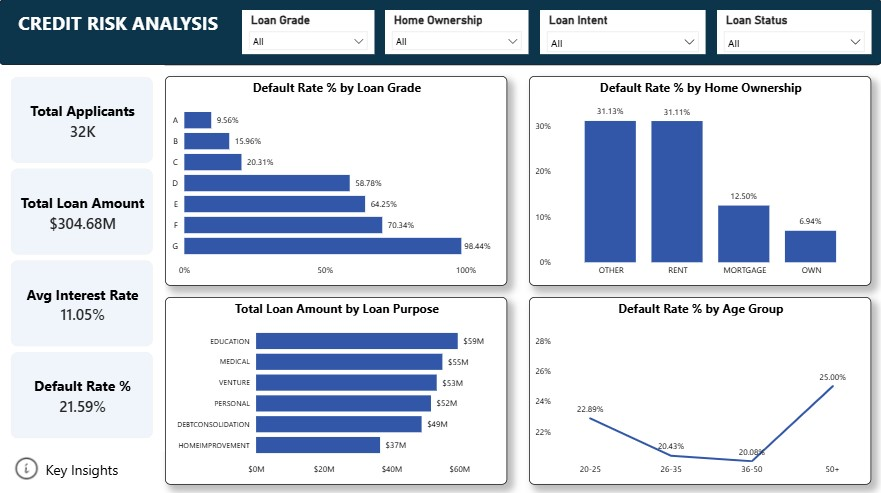

Layout of this report page (visuals, bound fields, positions):
{"tool":"powerbi","page":{"name":"Page 1","canvas":[1280,720],"ordinal":0},"visuals":[{"type":"textbox","box":[0,0,1280,80],"z":0},{"type":"clusteredBarChart","title":"Default Rate % by Loan Grade","fields":{"Y":["credit_risk_analysis.Default Rate %"],"Category":["credit_risk_analysis.loan_grade"]},"box":[208,96,512,288],"z":1000},{"type":"clusteredColumnChart","title":"Default Rate % by Home Ownership","fields":{"Y":["credit_risk_analysis.Default Rate %"],"Category":["credit_risk_analysis.person_home_ownership"]},"box":[736,96,528,288],"z":2000},{"type":"clusteredBarChart","title":"Total Loan Amount by Loan Purpose","fields":{"Category":["credit_risk_analysis.loan_intent"],"Y":["Sum(credit_risk_analysis.loan_amnt)"]},"box":[208,416,512,288],"z":3000},{"type":"lineChart","fields":{"Y":["credit_risk_analysis.Default Rate %"],"Category":["credit_risk_analysis.Age Group"]},"box":[736,416,528,288],"z":4000},{"type":"slicer","title":"Loan Grade","fields":{"Values":["credit_risk_analysis.loan_grade"]},"box":[440,8,200,64],"z":5000},{"type":"slicer","title":"Loan Grade","fields":{"Values":["credit_risk_analysis.person_home_ownership"]},"box":[648,8,200,64],"z":6000},{"type":"slicer","title":"Loan Grade","fields":{"Values":["credit_risk_analysis.loan_intent"]},"box":[856,8,200,64],"z":7000},{"type":"slicer","fields":{"Values":["credit_risk_analysis.Loan Status Label"]},"box":[1064,8,200,64],"z":8000},{"type":"cardVisual","fields":{"Data":["credit_risk_analysis.Total Applicants","Sum(credit_risk_analysis.loan_amnt)","credit_risk_analysis.Avg Interest Rate","credit_risk_analysis.Default Rate %"]},"box":[0,96,208,560],"z":9000},{"type":"actionButton","box":[16,656,176,48],"z":10000}]}

Visuals, with their boxes in screenshot pixels (x1, y1, x2, y2), scaled from the page's 1280x720 canvas onto the 881x493 screenshot:
textbox: {"x1": 0, "y1": 0, "x2": 880, "y2": 55}
"Default Rate % by Loan Grade" clusteredBarChart: {"x1": 143, "y1": 66, "x2": 496, "y2": 263}
"Default Rate % by Home Ownership" clusteredColumnChart: {"x1": 507, "y1": 66, "x2": 870, "y2": 263}
"Total Loan Amount by Loan Purpose" clusteredBarChart: {"x1": 143, "y1": 285, "x2": 496, "y2": 482}
lineChart - credit_risk_analysis.Default Rate % x credit_risk_analysis.Age Group: {"x1": 507, "y1": 285, "x2": 870, "y2": 482}
"Loan Grade" slicer: {"x1": 303, "y1": 5, "x2": 440, "y2": 49}
"Loan Grade" slicer: {"x1": 446, "y1": 5, "x2": 584, "y2": 49}
"Loan Grade" slicer: {"x1": 589, "y1": 5, "x2": 727, "y2": 49}
slicer - credit_risk_analysis.Loan Status Label: {"x1": 732, "y1": 5, "x2": 870, "y2": 49}
cardVisual - credit_risk_analysis.Total Applicants x Sum(credit_risk_analysis.loan_amnt): {"x1": 0, "y1": 66, "x2": 143, "y2": 449}
actionButton: {"x1": 11, "y1": 449, "x2": 132, "y2": 482}
